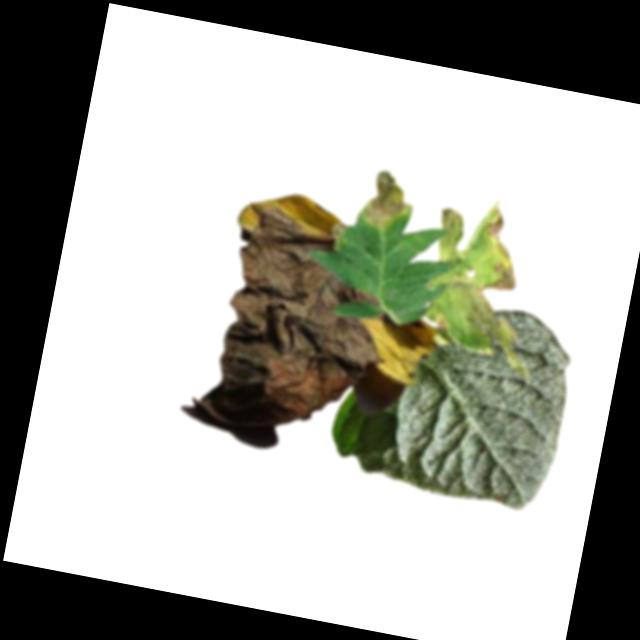Late_blight: (203, 183, 410, 430), (417, 195, 536, 350), (353, 301, 442, 387), (358, 168, 418, 236)
